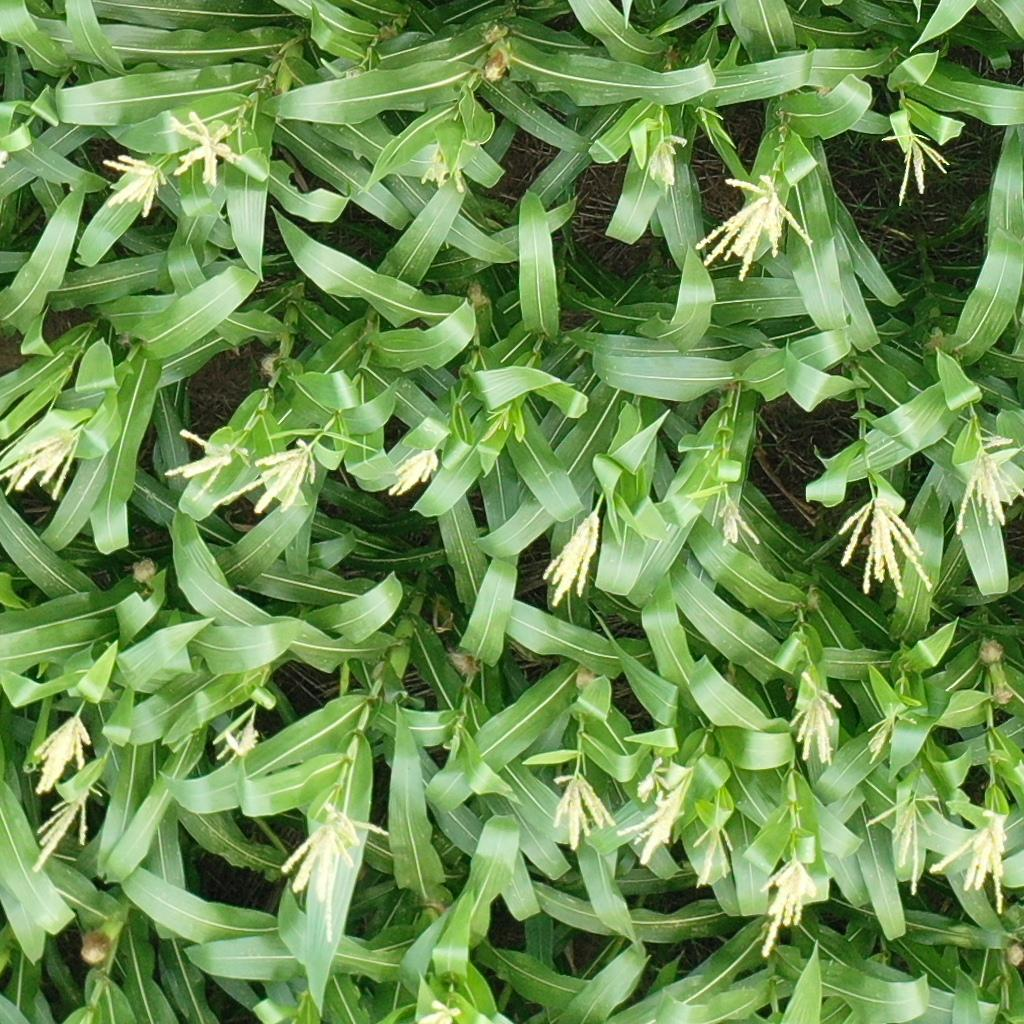Tassel: (276, 799, 389, 941), (694, 169, 814, 282), (834, 500, 939, 601), (932, 806, 1015, 915), (213, 433, 319, 515), (862, 790, 940, 897), (953, 431, 1024, 536), (1, 423, 88, 503), (161, 427, 251, 502), (756, 853, 818, 958), (876, 126, 953, 207), (618, 777, 688, 866), (543, 503, 600, 608), (163, 111, 243, 185), (27, 703, 92, 794), (548, 766, 616, 850), (787, 669, 843, 767), (31, 788, 91, 872), (101, 151, 169, 220), (712, 484, 769, 554), (862, 698, 918, 769), (693, 812, 735, 891), (385, 447, 443, 501), (646, 130, 688, 194), (420, 146, 470, 193), (217, 715, 261, 768), (636, 754, 674, 803), (478, 405, 512, 445), (696, 107, 726, 146), (418, 998, 460, 1024)
